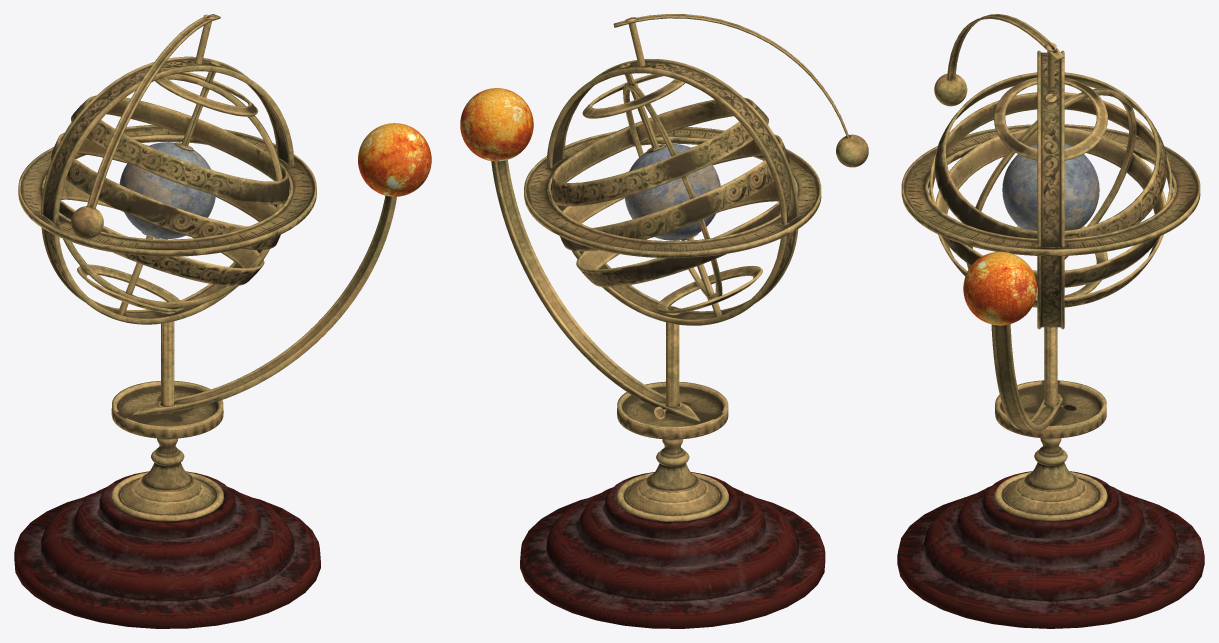
Rendered from armillary-ed819236bca6.glb.
3 views of the same model, side by side, from view 1: azimuth 30°, elevation 25°; view 2: azimuth 150°, elevation 25°; view 3: azimuth 270°, elevation 25° (orthographic).
Visible parts, largest first — view 1: brass-material (×5), base_wood-material, sun-material, earth-material, moon-material; view 2: brass-material (×5), base_wood-material, sun-material, earth-material, moon-material; view 3: brass-material (×5), base_wood-material, earth-material, sun-material, moon-material.
Part boxes in pixels (x1,y1,x2,y2): brass-material (×5): (18,14,396,521); base_wood-material: (14,471,320,628); sun-material: (358,123,431,196); earth-material: (119,142,215,239); moon-material: (71,206,103,238); brass-material (×5): (491,14,848,521); base_wood-material: (520,472,825,628); sun-material: (460,88,533,161); earth-material: (624,144,720,240); moon-material: (836,134,868,167); brass-material (×5): (901,14,1200,521); base_wood-material: (897,471,1204,628); earth-material: (1002,143,1099,230); sun-material: (963,251,1036,325); moon-material: (934,74,967,106).
Bounding box in the file's own units: 0.7345 × 1 × 0.5168.
Materials: 5 (5 with a texture image).
